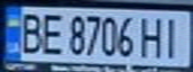0: (100, 12, 121, 57)
6: (115, 12, 139, 59)
7: (81, 11, 103, 56)
8: (63, 11, 87, 56)
B: (15, 9, 45, 55)
E: (39, 10, 66, 55)
H: (136, 14, 166, 58)
I: (157, 15, 187, 58)
